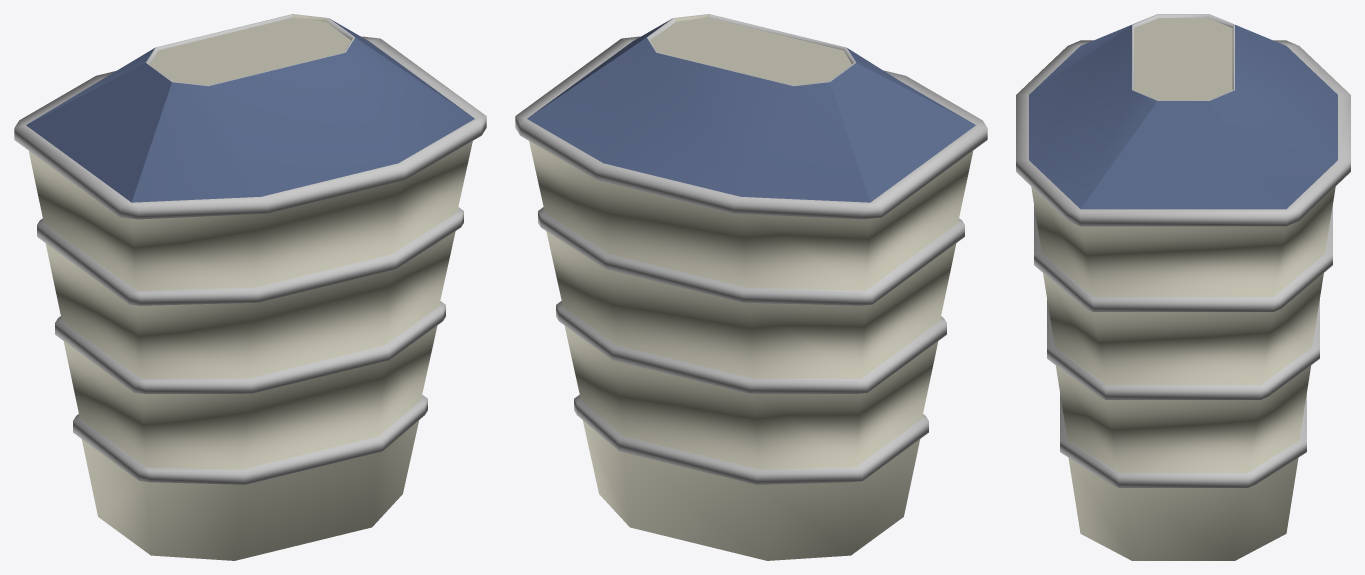
The model's file is TEST-bld-5.glb.
3 views of the same model, side by side, from view 1: azimuth 30°, elevation 25°; view 2: azimuth 150°, elevation 25°; view 3: azimuth 270°, elevation 25° (orthographic). The views are drawn at different scales.
Visible parts, largest first — view 1: Cube-col; view 2: Cube-col; view 3: Cube-col.
Part boxes in pixels (x1,y1,x2,y2): Cube-col: (14, 14, 486, 560); Cube-col: (515, 14, 987, 560); Cube-col: (1016, 14, 1350, 560).
Size of the model in its own units: 16 by 19 by 13.
